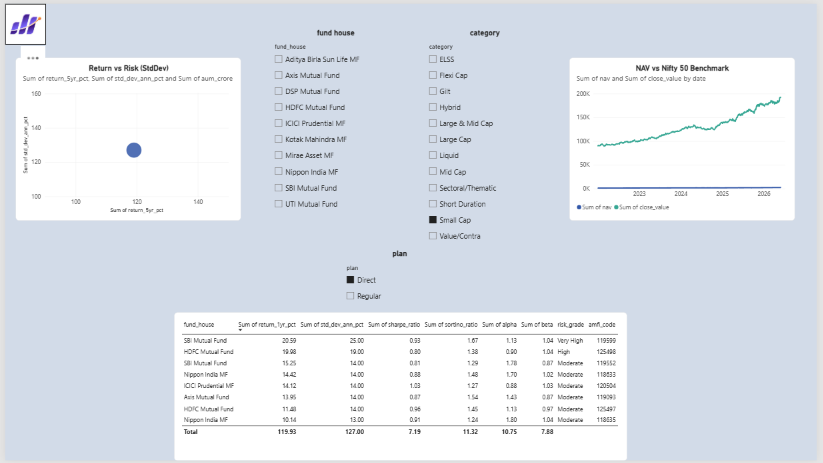

Layout of this report page (visuals, bound fields, positions):
{"tool":"powerbi","page":{"name":"fund performance ","canvas":[1920,1080],"ordinal":1},"visuals":[{"type":"scatterChart","title":"Return vs Risk (StdDev)","fields":{"Size":["Sum(scheme_performance.aum_crore)"],"X":["Sum(scheme_performance.return_5yr_pct)"],"Y":["Sum(scheme_performance.std_dev_ann_pct)"]},"box":[25,127.5,532.5,385],"z":0},{"type":"lineChart","title":"NAV vs Nifty 50 Benchmark","fields":{"Category":["nav_hisory.date"],"Y":["Sum(nav_hisory.nav)","Sum(benchmark_indices.close_value)"]},"box":[1335,127.5,533,385],"z":1000},{"type":"slicer","title":"fund house ","fields":{"Values":["aum_by_fund.fund_house"]},"box":[630,57.5,305,482.5],"z":2000},{"type":"slicer","title":"category","fields":{"Values":["category_inflows.category"]},"box":[995,57.5,280,522.5],"z":3000},{"type":"slicer","title":"plan","fields":{"Values":["fund_master.plan"]},"box":[800,580,267.5,130],"z":4000},{"type":"tableEx","fields":{"Values":["scheme_performance.fund_house","Sum(scheme_performance.return_1yr_pct)","Sum(scheme_performance.std_dev_ann_pct)","Sum(scheme_performance.sharpe_ratio)","Sum(scheme_performance.sortino_ratio)","Sum(scheme_performance.alpha)","Sum(scheme_performance.beta)","scheme_performance.risk_grade","scheme_performance.amfi_code"]},"box":[400,730,1071.1,351.1],"z":5000},{"type":"image","box":[0,0,96.7,96.7],"z":5001}]}

Visuals, with their boxes in screenshot pixels (x1, y1, x2, y2), scaled from the page's 1920x1080 canvas onto the 823x463 screenshot:
"Return vs Risk (StdDev)" scatterChart: 11,55,239,220
"NAV vs Nifty 50 Benchmark" lineChart: 572,55,801,220
"fund house " slicer: 270,25,401,232
"category" slicer: 427,25,547,249
"plan" slicer: 343,249,458,304
tableEx - scheme_performance.fund_house x Sum(scheme_performance.return_1yr_pct): 171,313,631,462
image: 0,0,41,41
